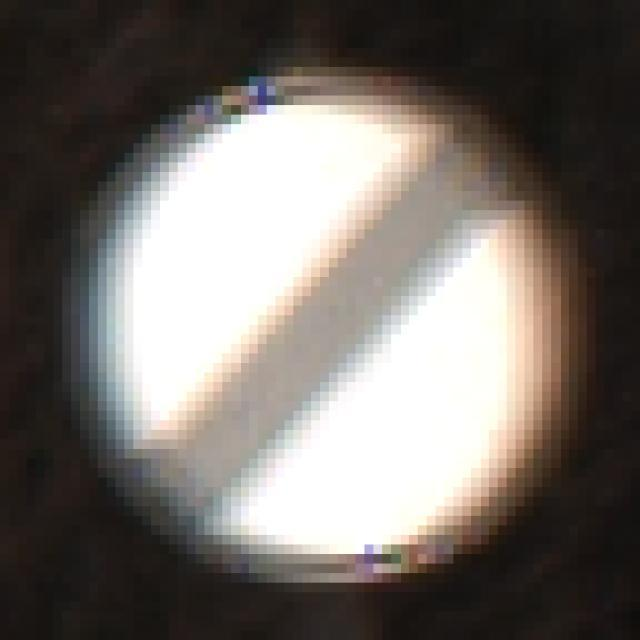restriction ends: (71, 74, 570, 589)
